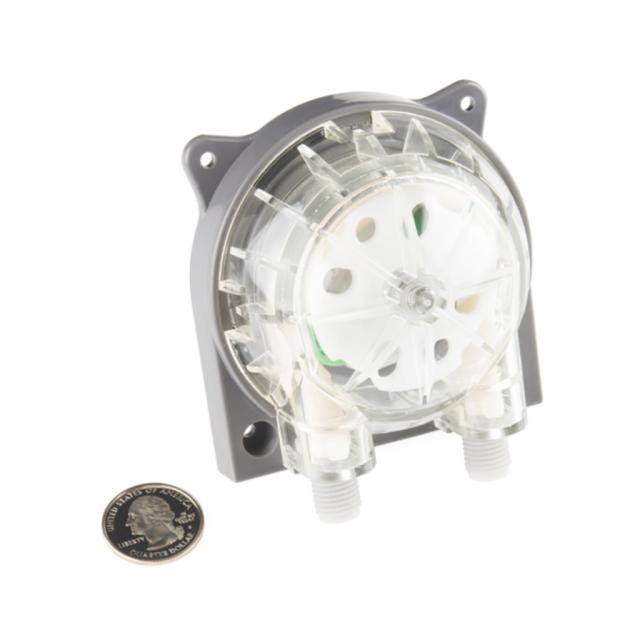Coin: (97, 480, 206, 562)
